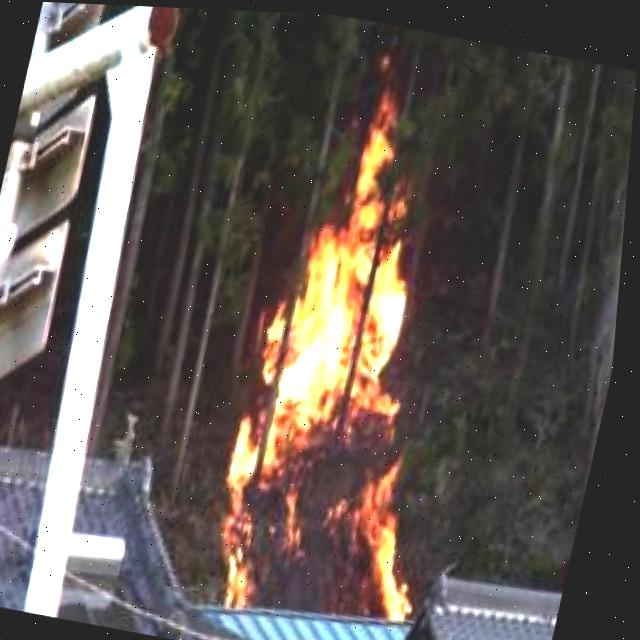Fire: (210, 84, 505, 633)
